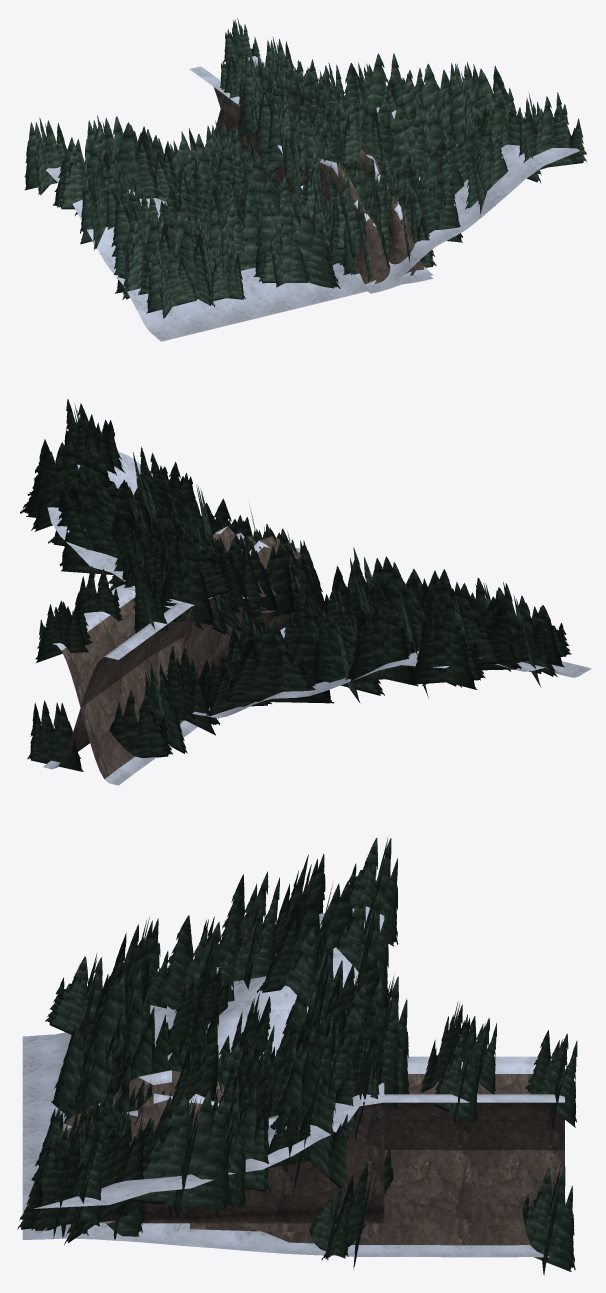
File: bk_forest_winter.glb
The picture shows the model from 3 angles, top to bottom: view 1: azimuth 30°, elevation 25°; view 2: azimuth 150°, elevation 25°; view 3: azimuth 270°, elevation 25°; orthographic projection. The views are drawn at different scales.
Parts seen in each view (by area): view 1: trees_corner_inner, trees_corner_outer, corner_inner, trees_endcap_sea_to_land, trees_straight12_a, corner_outer, endcap_land_to_sea, trees_straight12_c, trees_straight12_b, endcap_sea_to_land, trees_endcap_land_to_sea, trees_straight3 (+1 smaller); view 2: trees_corner_inner, trees_corner_outer, trees_endcap_sea_to_land, endcap_sea_to_land, trees_endcap_land_to_sea, endcap_land_to_sea, trees_straight12_a, pass12, trees_straight3, trees_straight12_b, trees_straight12_c, corner_outer (+2 smaller); view 3: trees_corner_inner, trees_corner_outer, endcap_land_to_sea, trees_endcap_land_to_sea, endcap_sea_to_land, pass12, trees_endcap_sea_to_land, corner_inner, trees_straight12_b, corner_outer, trees_straight12_c, trees_straight12_a (+2 smaller).
Boxes of the visible parts, x1=… form: trees_corner_inner: x1=24, y1=115, x2=343, y2=318; trees_corner_outer: x1=267, y1=53, x2=586, y2=281; corner_inner: x1=46, y1=166, x2=370, y2=341; trees_endcap_sea_to_land: x1=205, y1=18, x2=385, y2=227; trees_straight12_a: x1=252, y1=53, x2=423, y2=265; corner_outer: x1=278, y1=101, x2=579, y2=290; endcap_land_to_sea: x1=189, y1=66, x2=433, y2=286; trees_straight12_c: x1=282, y1=67, x2=435, y2=262; trees_straight12_b: x1=254, y1=58, x2=433, y2=260; endcap_sea_to_land: x1=214, y1=56, x2=428, y2=293; trees_endcap_land_to_sea: x1=220, y1=45, x2=436, y2=267; trees_straight3: x1=240, y1=65, x2=306, y2=195; trees_corner_inner: x1=205, y1=547, x2=571, y2=717; trees_corner_outer: x1=20, y1=399, x2=321, y2=635; trees_endcap_sea_to_land: x1=35, y1=484, x2=265, y2=758; endcap_sea_to_land: x1=52, y1=526, x2=285, y2=785; trees_endcap_land_to_sea: x1=27, y1=526, x2=238, y2=771; endcap_land_to_sea: x1=43, y1=536, x2=300, y2=769; trees_straight12_a: x1=132, y1=504, x2=296, y2=617; pass12: x1=180, y1=595, x2=286, y2=678; trees_straight3: x1=160, y1=540, x2=264, y2=612; trees_straight12_b: x1=121, y1=520, x2=320, y2=633; trees_straight12_c: x1=122, y1=510, x2=322, y2=629; corner_outer: x1=47, y1=451, x2=264, y2=608; trees_corner_inner: x1=45, y1=837, x2=398, y2=1113; trees_corner_outer: x1=17, y1=1016, x2=399, y2=1245; endcap_land_to_sea: x1=22, y1=1056, x2=564, y2=1257; trees_endcap_land_to_sea: x1=31, y1=975, x2=575, y2=1275; endcap_sea_to_land: x1=36, y1=1093, x2=564, y2=1233; pass12: x1=22, y1=1102, x2=384, y2=1234; trees_endcap_sea_to_land: x1=170, y1=1025, x2=577, y2=1168; corner_inner: x1=22, y1=906, x2=384, y2=1189; trees_straight12_b: x1=75, y1=1013, x2=399, y2=1221; corner_outer: x1=22, y1=1094, x2=371, y2=1209; trees_straight12_c: x1=55, y1=1005, x2=379, y2=1238; trees_straight12_a: x1=103, y1=996, x2=403, y2=1130.
Size of the model in its own units: 87.79 by 32.22 by 63.95.
Materials: 4 (4 with a texture image).
